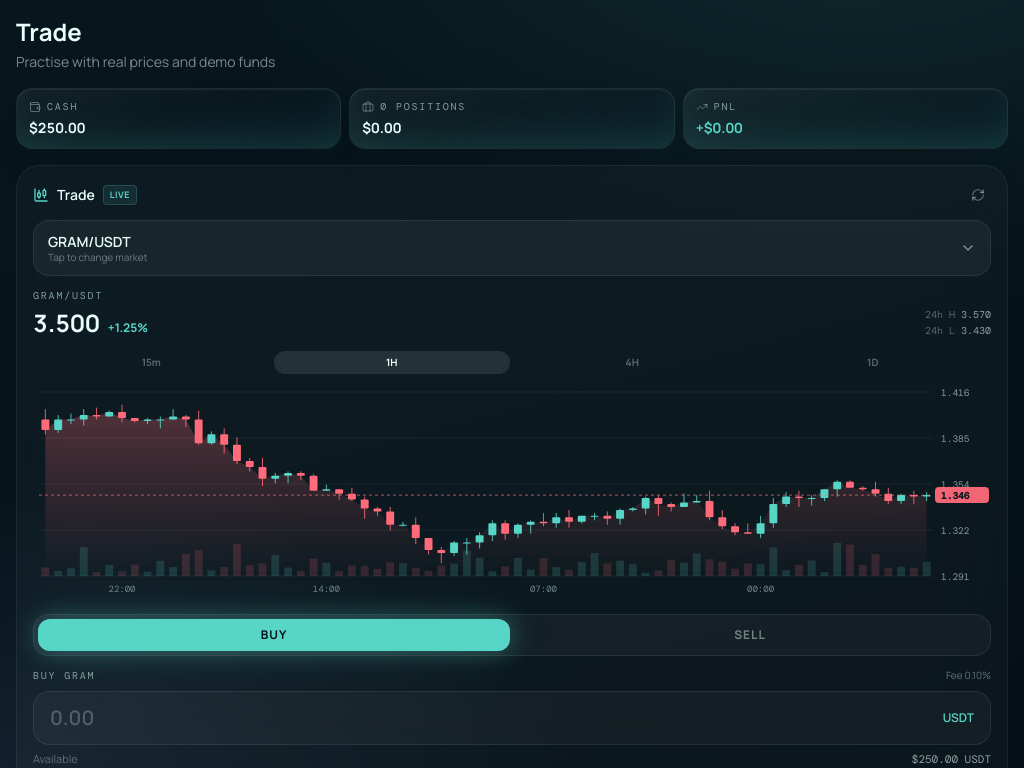
order limits › edits the levels of an open position
The width and height of the screenshot is (1024, 768).
Expected: the element with test id "trade-available-balance" shows "$250.00", [912,752,958,766]
Step 1. Type "30" into the number field with test id "trade-amount-input" → {"x": 492, "y": 718}, box [50,704,935,732]
(page scrolled)
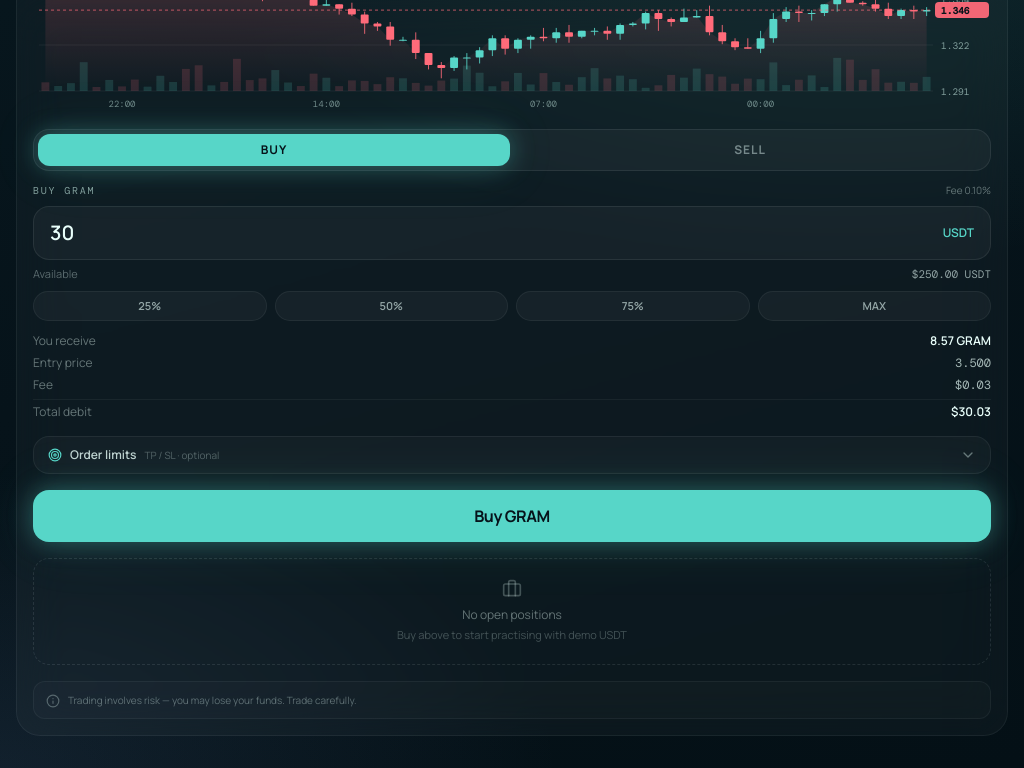
Step 2. Click the button with test id "trade-buy-submit" → {"x": 512, "y": 516}, box [33,490,991,542]
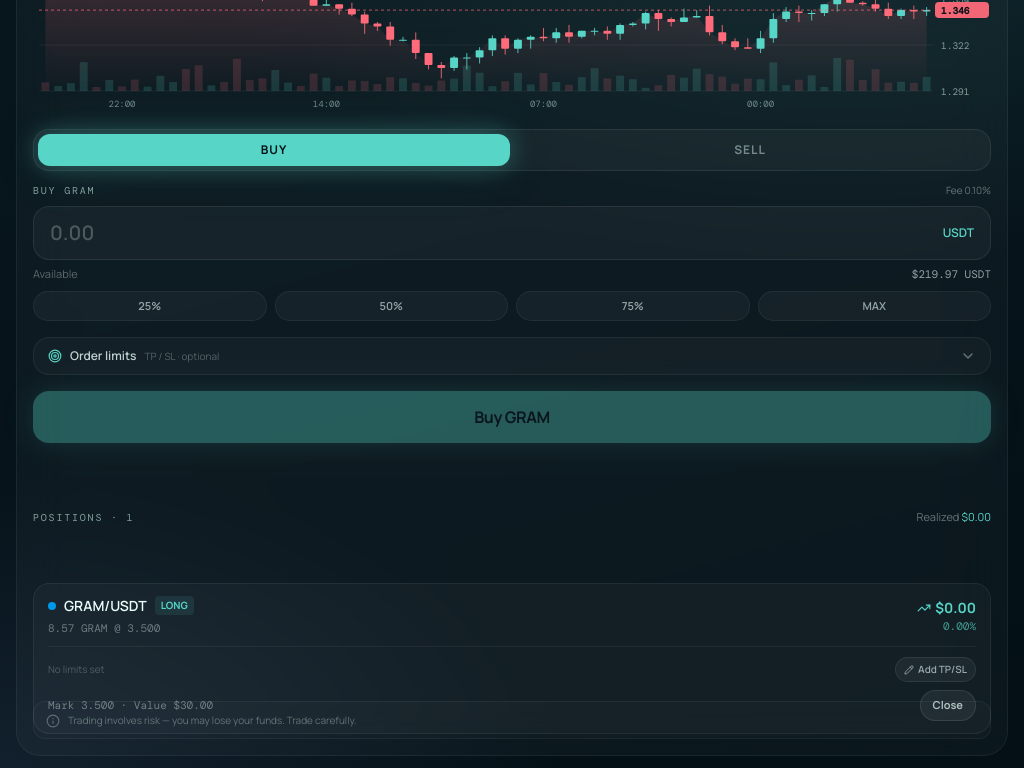
Result: the element with test id "position-TONUSDT" is shown at [33,582,991,734]
Result: the button with test id "levels-edit" reads "Add TP/SL"
Step 3. Click the button with test id "levels-edit" → {"x": 936, "y": 670}, box [895,657,976,682]
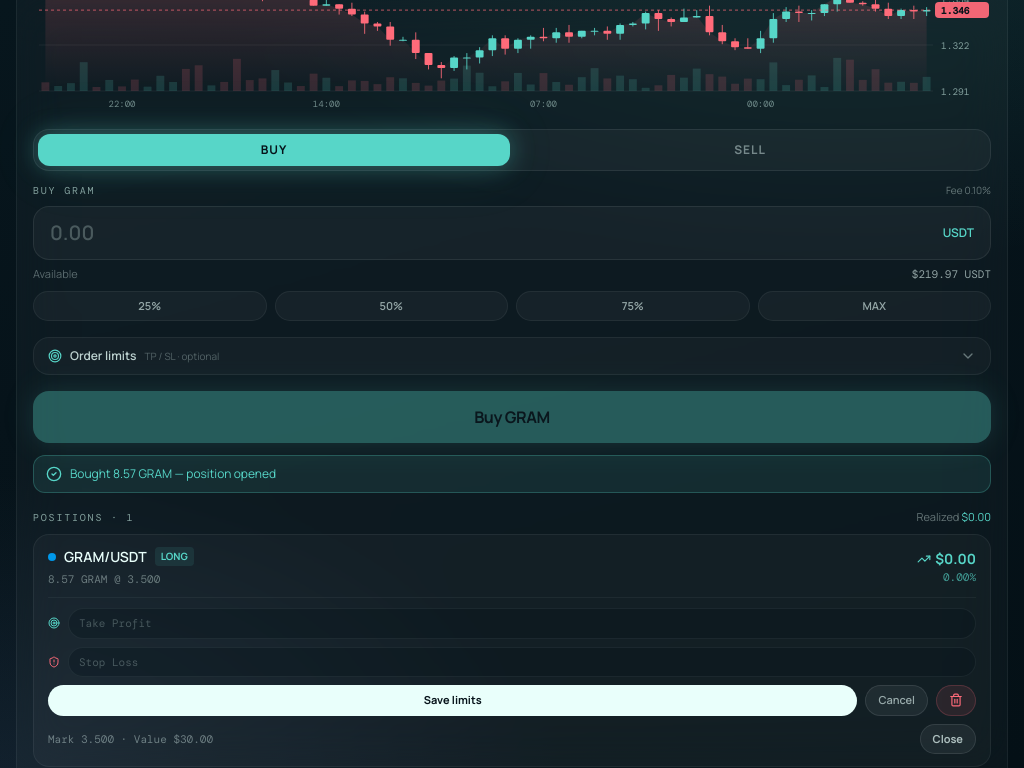
Result: the element with test id "levels-editor" is shown at [48,608,976,716]
Step 4. Type "3.8" into the number field with test id "levels-tp-input" → {"x": 522, "y": 623}, box [68,608,976,638]
Step 5. Type "4.1" into the number field with test id "levels-sl-input" → {"x": 522, "y": 662}, box [68,646,976,677]
Step 6. Click the button with test id "levels-save" → {"x": 453, "y": 700}, box [48,685,857,716]
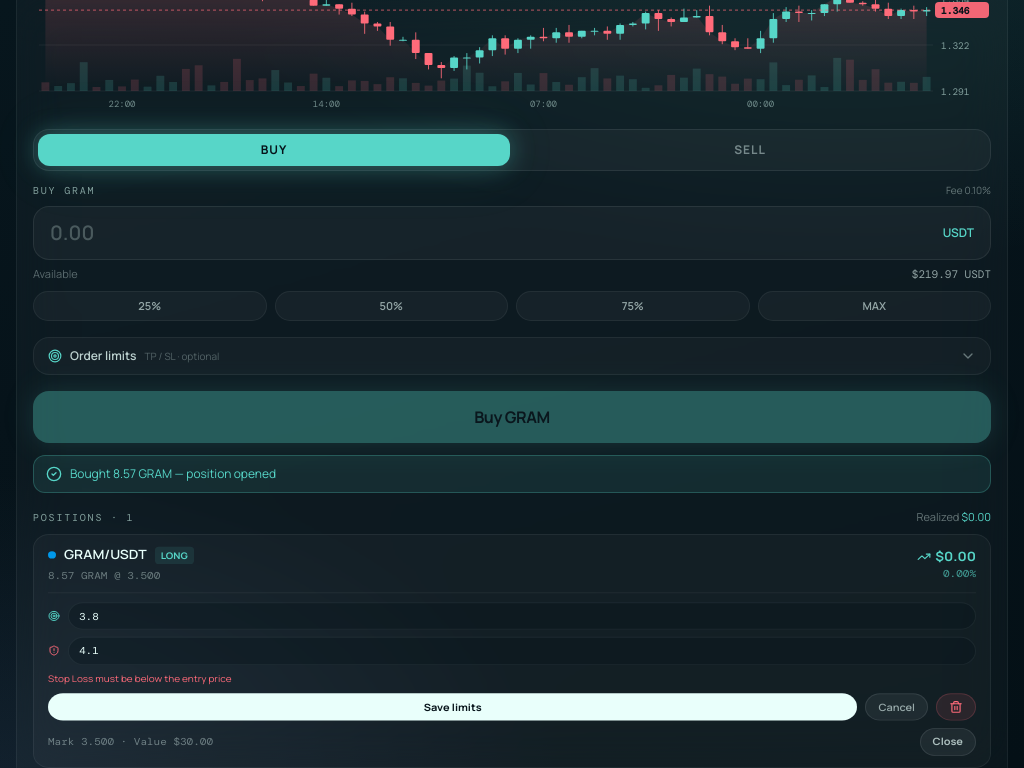
Result: the text "Stop Loss must be below the entry price" is shown at [48,671,232,684]
Step 7. Replace the text in the number field with test id "levels-sl-input" with "3.2" → {"x": 522, "y": 650}, box [68,636,976,664]
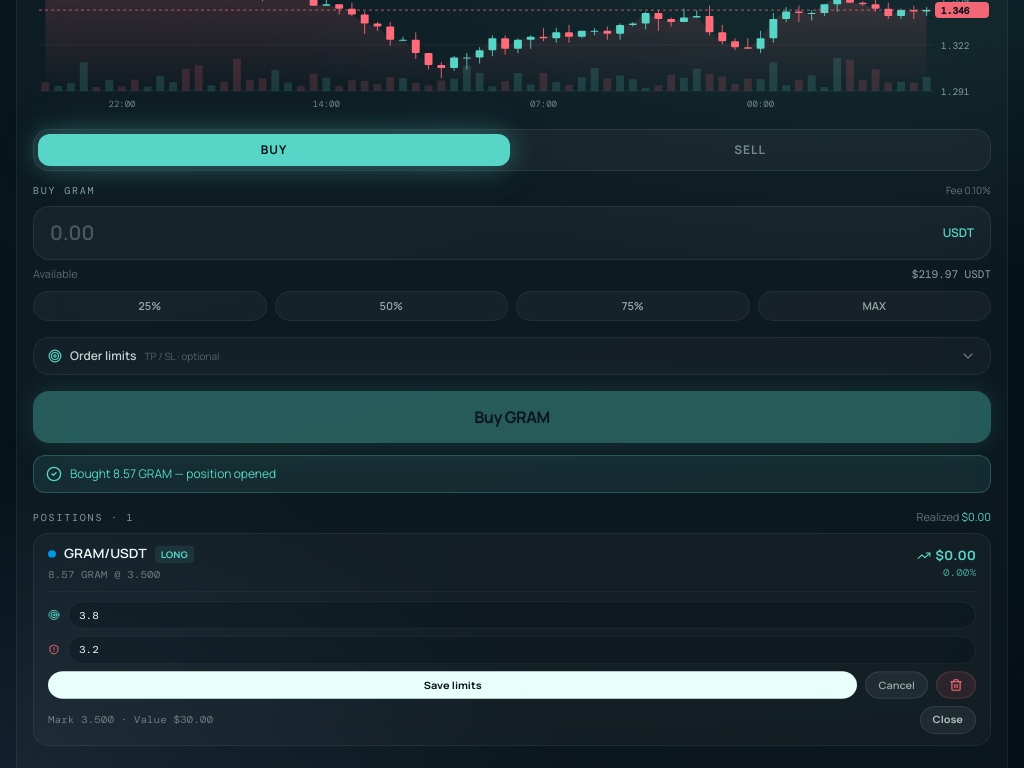
Step 8. Click the button with test id "levels-save" → {"x": 453, "y": 684}, box [48,670,857,698]
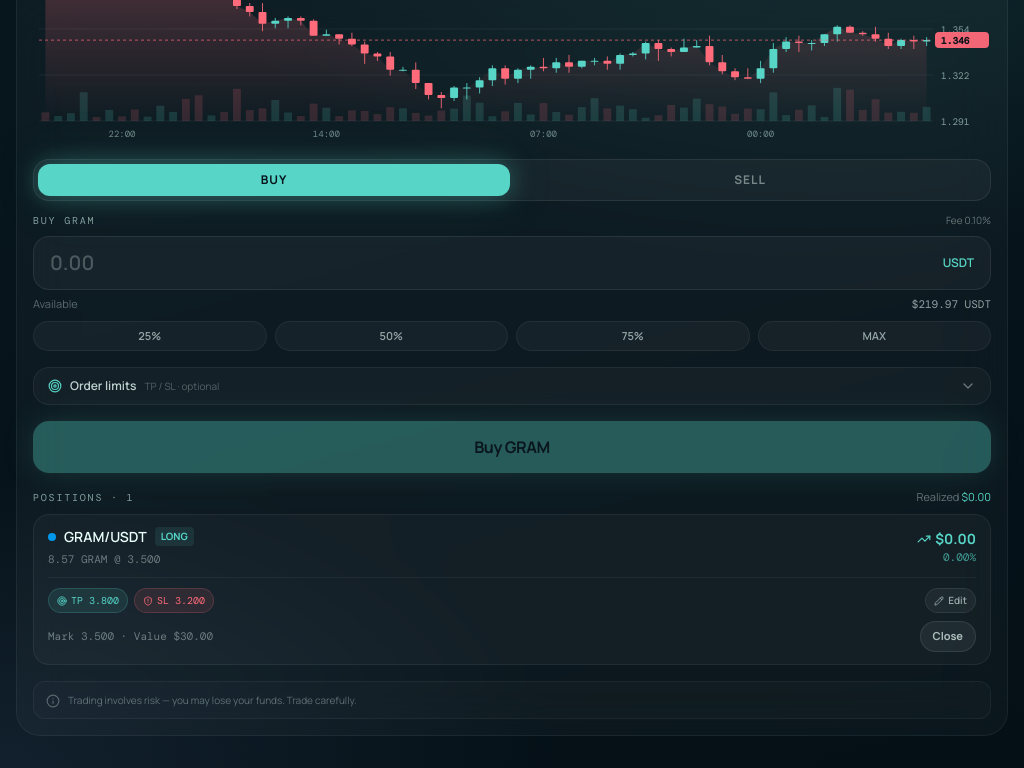
Result: the element with test id "position-tp" reads "TP 3.800" at [48,588,128,613]
Result: the element with test id "position-sl" reads "SL 3.200" at [134,588,214,613]
